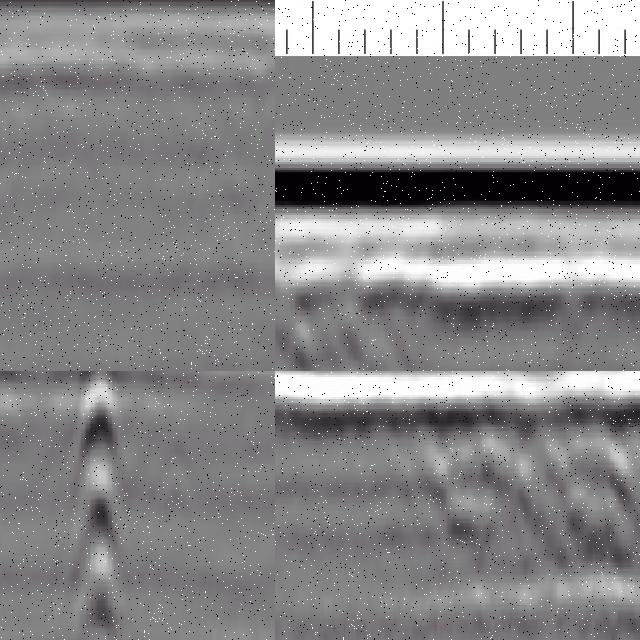crack: (77, 372, 126, 640)
loose: (428, 402, 640, 572), (276, 240, 436, 372)
